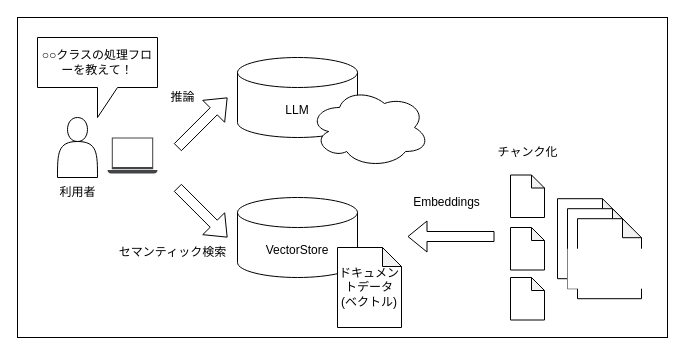
Image size: 685x355. Some labels were removed from this diagram. Here are the shapes that lost their labels. From the top down, the box of each, then its label:
(308, 86, 430, 168): 学習済みモデル
(567, 248, 657, 288): ソースコード (TXT, PHP...)
